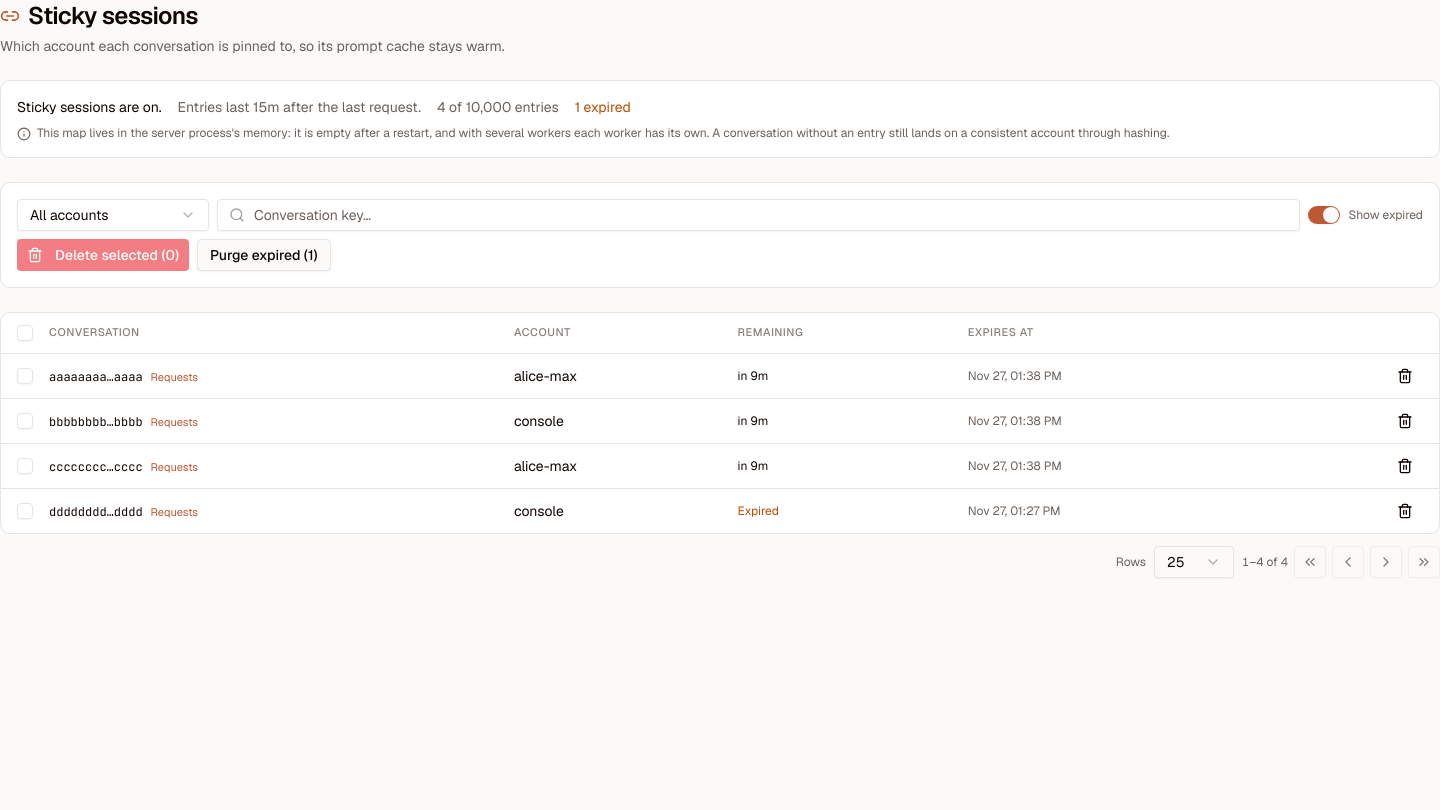
Test: StickySessionsPage › selects all on the page and deletes the selection
The width and height of the screenshot is (1440, 810).
Expected: the table with test id "sticky-table" is shown, [1,313,1439,532]
Expected: the button "Delete selected (0)" is disabled, [17,239,189,271]
Click the checkbox named "Select all on this page" at (25, 333), box [17,325,33,341]
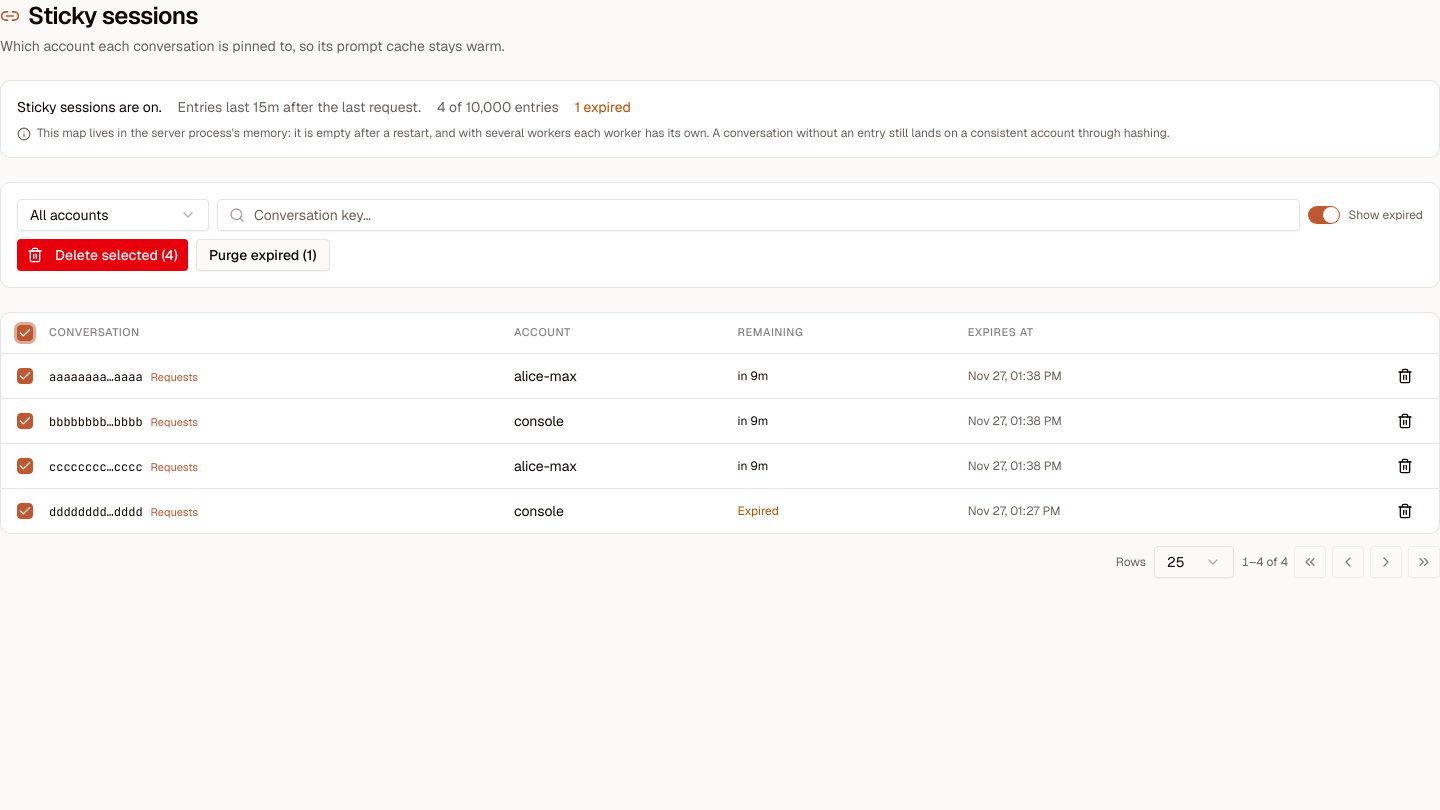
Click the checkbox named "Select cccccccc…cccc" at (25, 466), box [17,458,33,474]
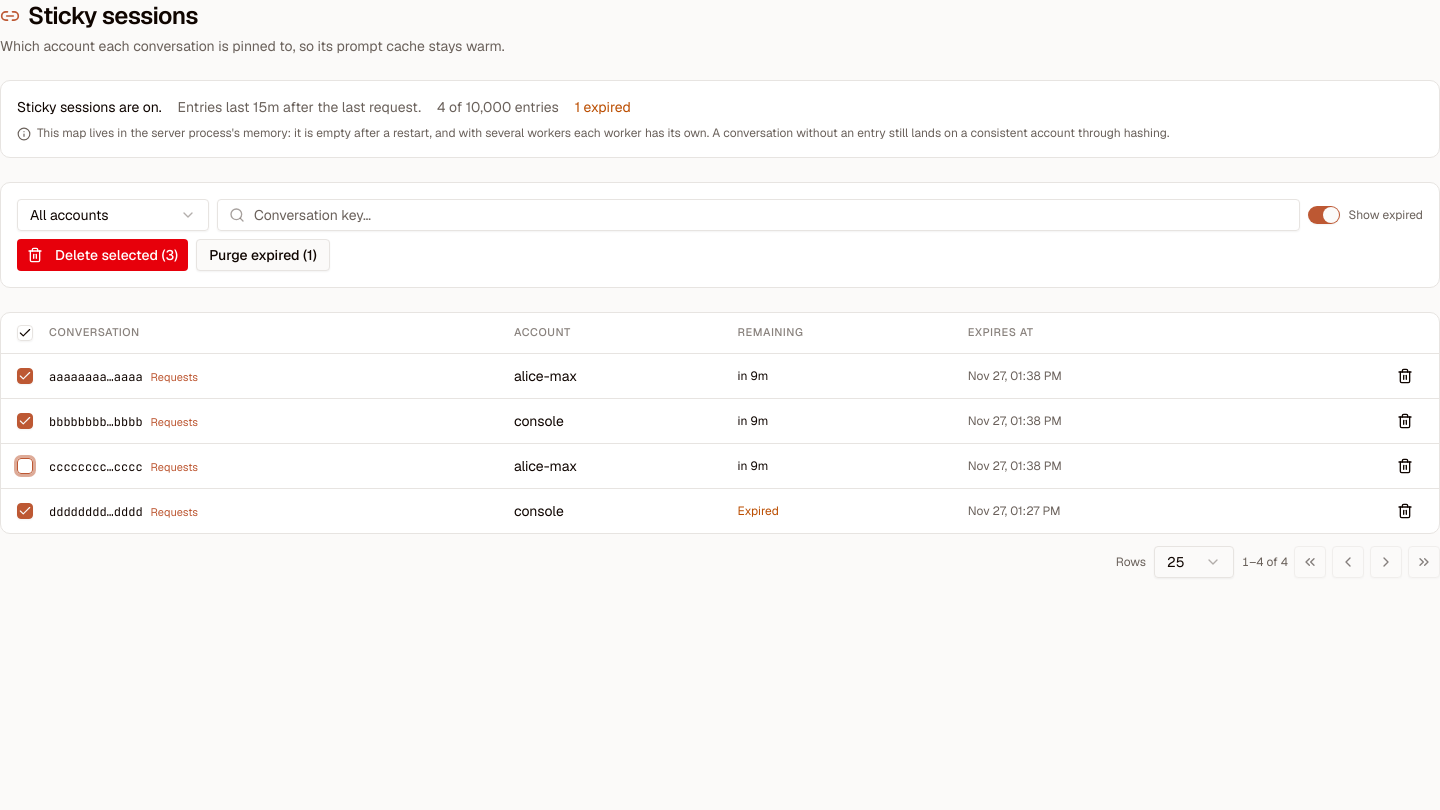
Click the button "Delete selected (3)" at (103, 255), box [17,239,188,271]
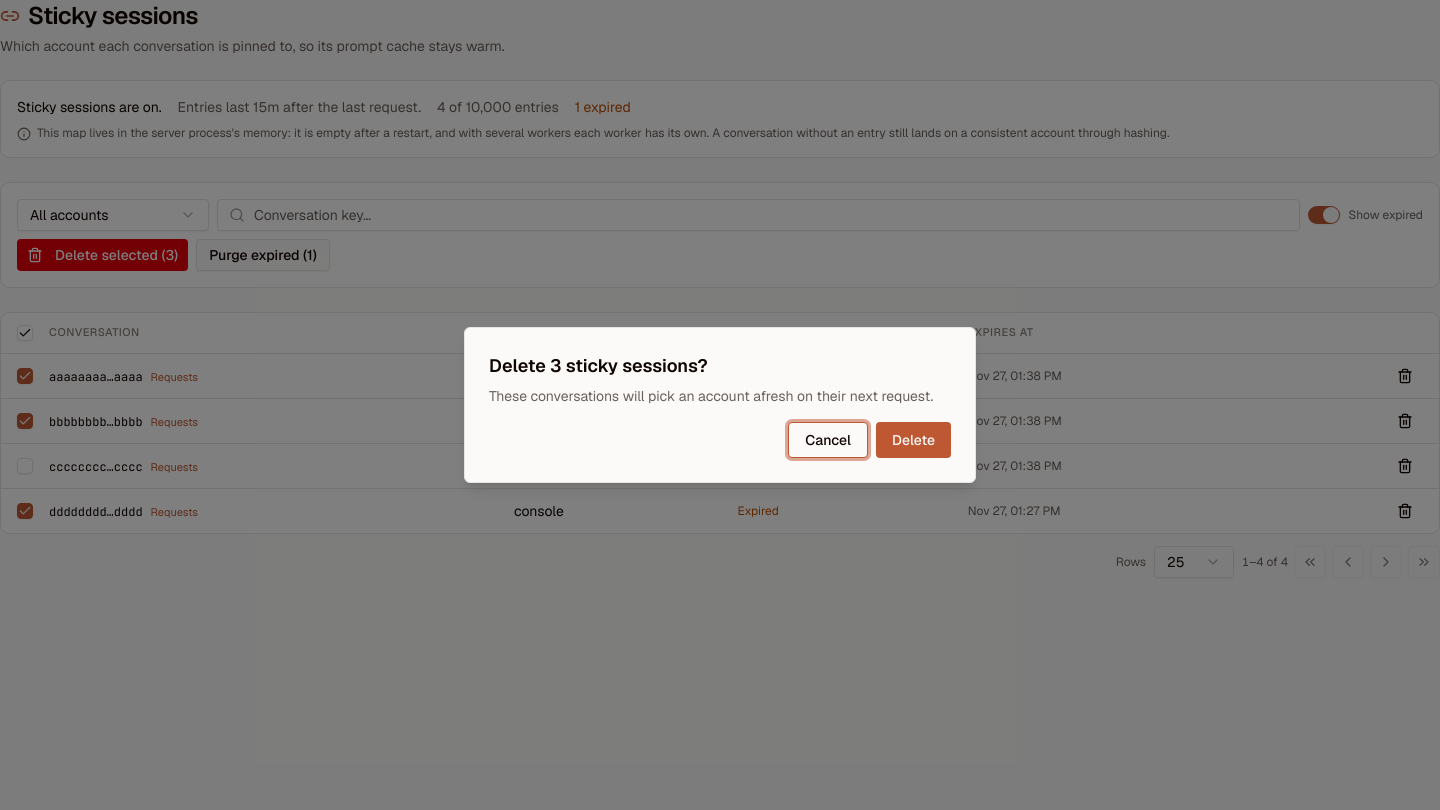
Now the heading "Delete 3 sticky sessions?" is shown, box [489,352,708,380]
Click the button "Delete" at (913, 440), box [876,422,951,458]
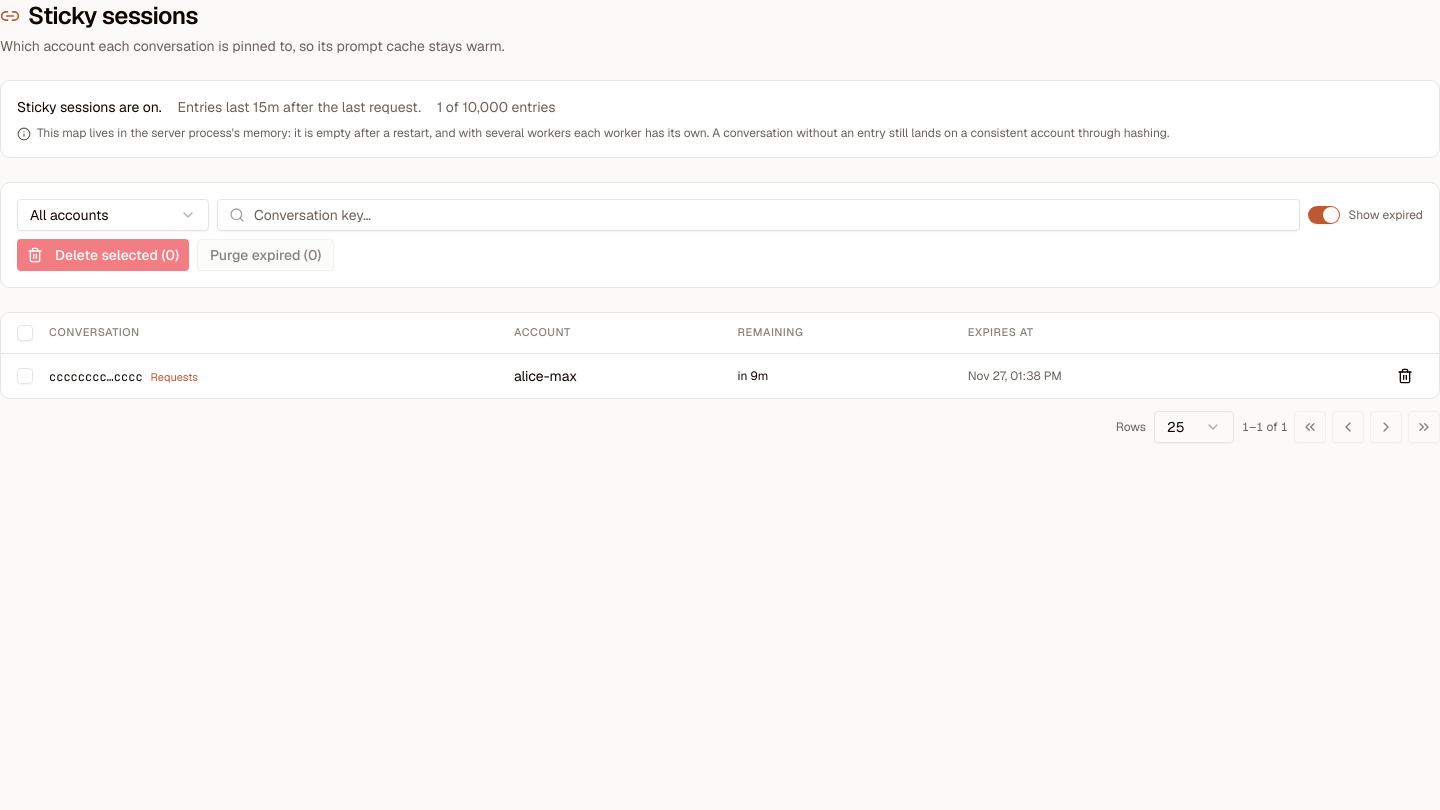
Now the dialog is gone
